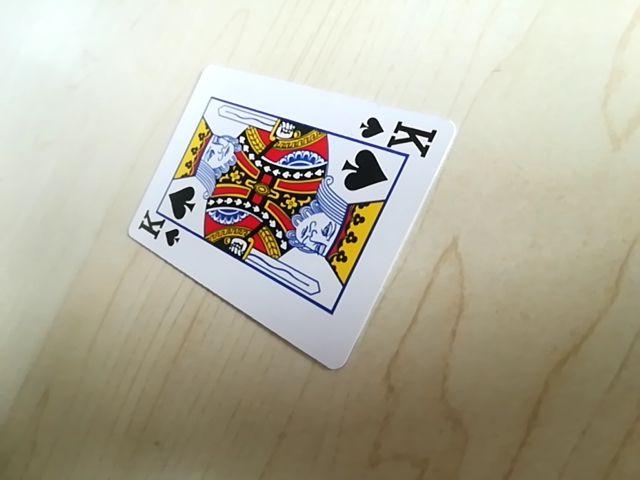ht k: (353, 113, 440, 151), (134, 209, 186, 253)
